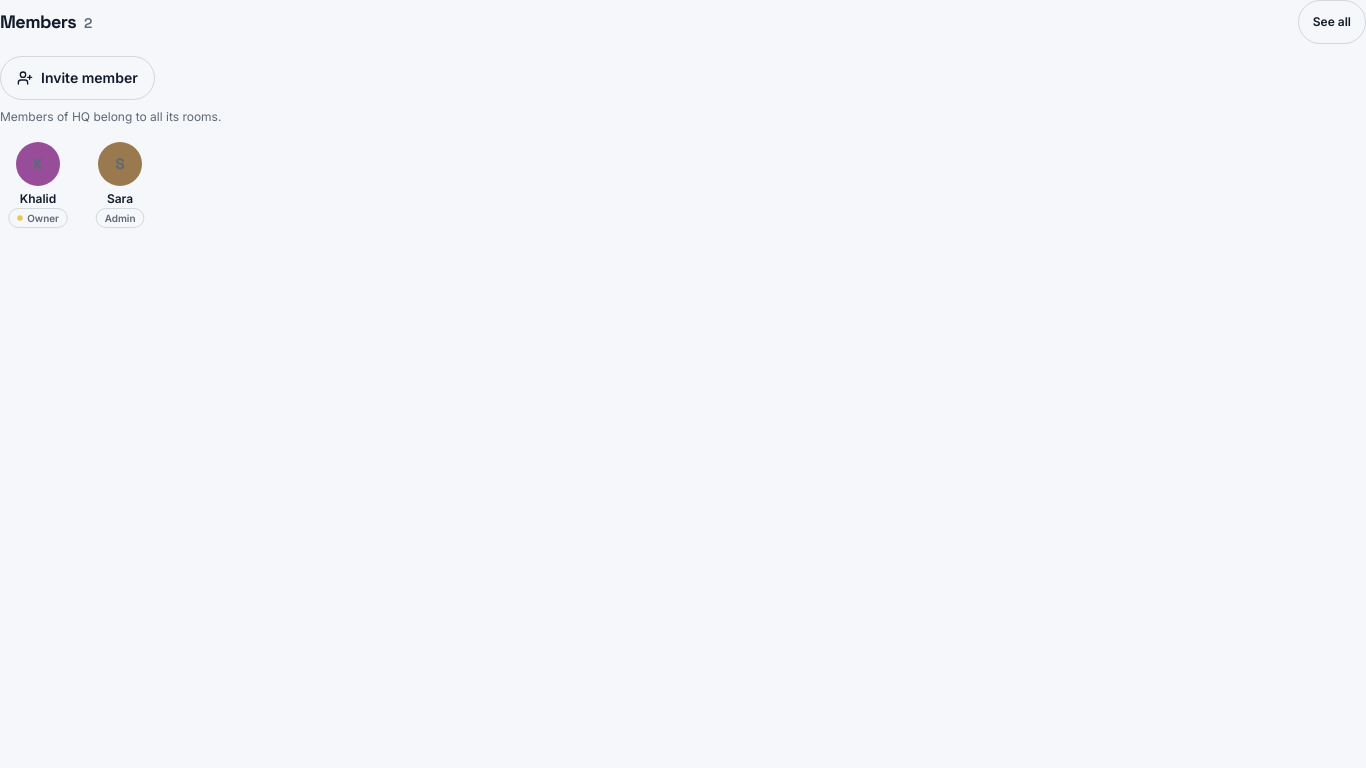
shows your own card with a You tag, your top role only and a Your profile button
Click the button "K Khalid Owner" at (38, 186), box top-left (0, 138), bottom-right (76, 233)
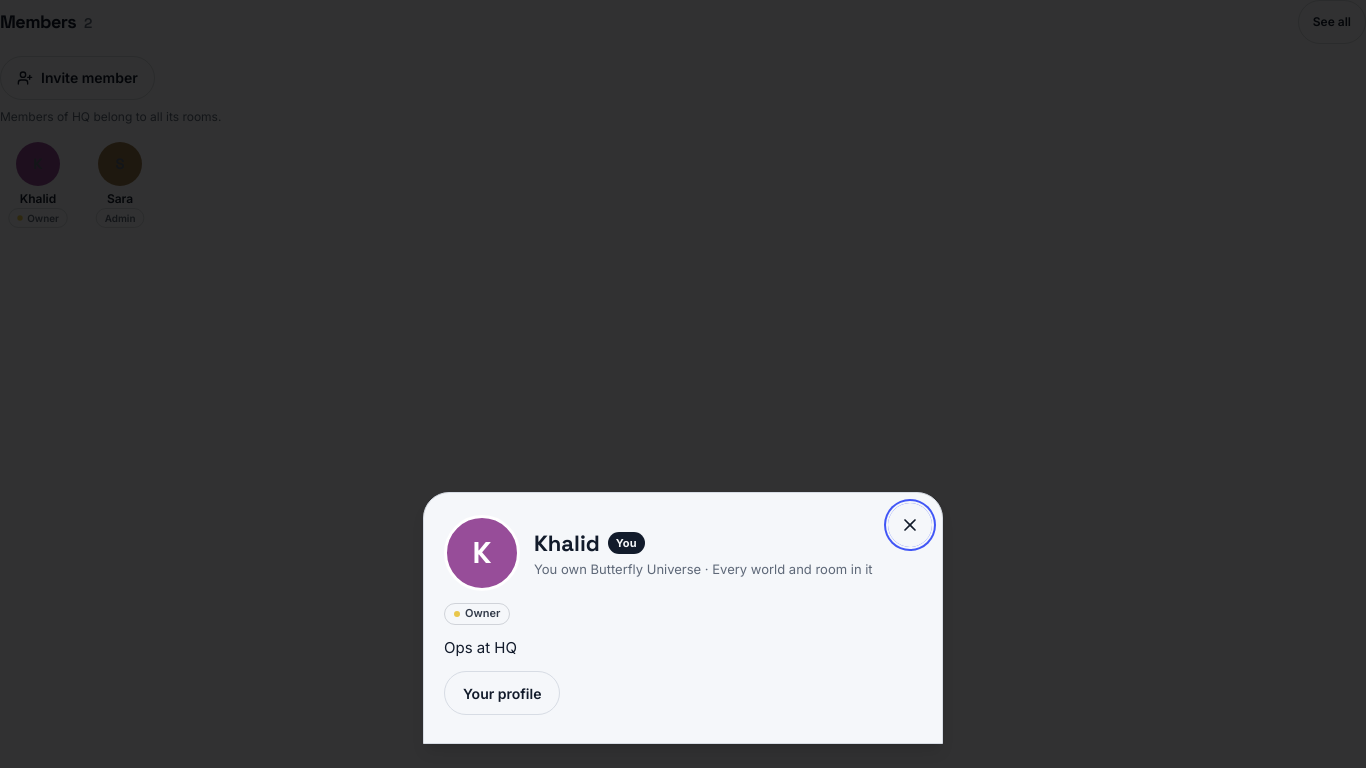
Result: the text "You" is shown at top-left (608, 532), bottom-right (645, 554)
Result: the text "You own Butterfly Universe · Every world and room in it" is shown at top-left (534, 560), bottom-right (873, 579)
Result: the text "Owner" is shown at top-left (444, 602), bottom-right (510, 624)
